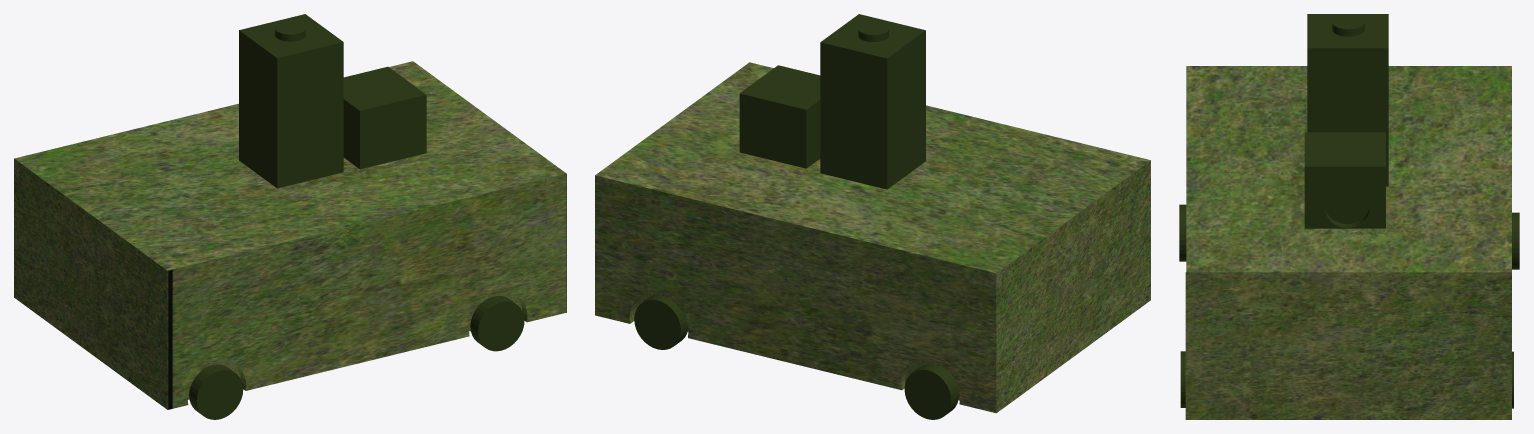
The model's file is wheel_bl.dae.
3 renders of one model, left to right at view 1: azimuth 30°, elevation 25°; view 2: azimuth 150°, elevation 25°; view 3: azimuth 270°, elevation 25°, orthographic. The views are drawn at different scales.
Parts seen in each view (by area): view 1: base_footprint, lidar_link, cam_link, wheel_fr, wheel_br; view 2: base_footprint, lidar_link, cam_link, wheel_bl, wheel_fl; view 3: base_footprint, lidar_link, cam_link, wheel_bl, wheel_br, wheel_fr.
Boxes of the visible parts, x1,y1,x2,y2 form: base_footprint: (14, 61, 566, 409); lidar_link: (239, 14, 343, 188); cam_link: (343, 66, 426, 169); wheel_fr: (470, 295, 524, 351); wheel_br: (189, 364, 243, 419); base_footprint: (595, 62, 1150, 413); lidar_link: (820, 14, 925, 189); cam_link: (739, 65, 820, 168); wheel_bl: (904, 364, 958, 419); wheel_fl: (634, 294, 687, 349); base_footprint: (1185, 66, 1511, 419); lidar_link: (1307, 14, 1388, 186); cam_link: (1304, 132, 1385, 228); wheel_bl: (1512, 212, 1519, 269); wheel_br: (1179, 204, 1186, 261); wheel_fr: (1180, 351, 1185, 407).
Size of the model in its own units: 1.2 by 0.8358 by 0.8533.
Materials: 1 (1 with a texture image).
